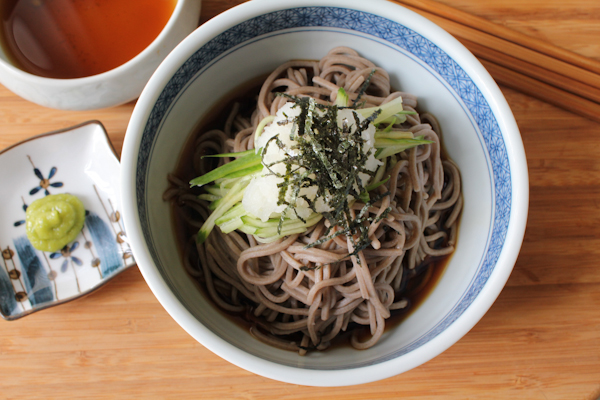Soba: (199, 57, 462, 356)
